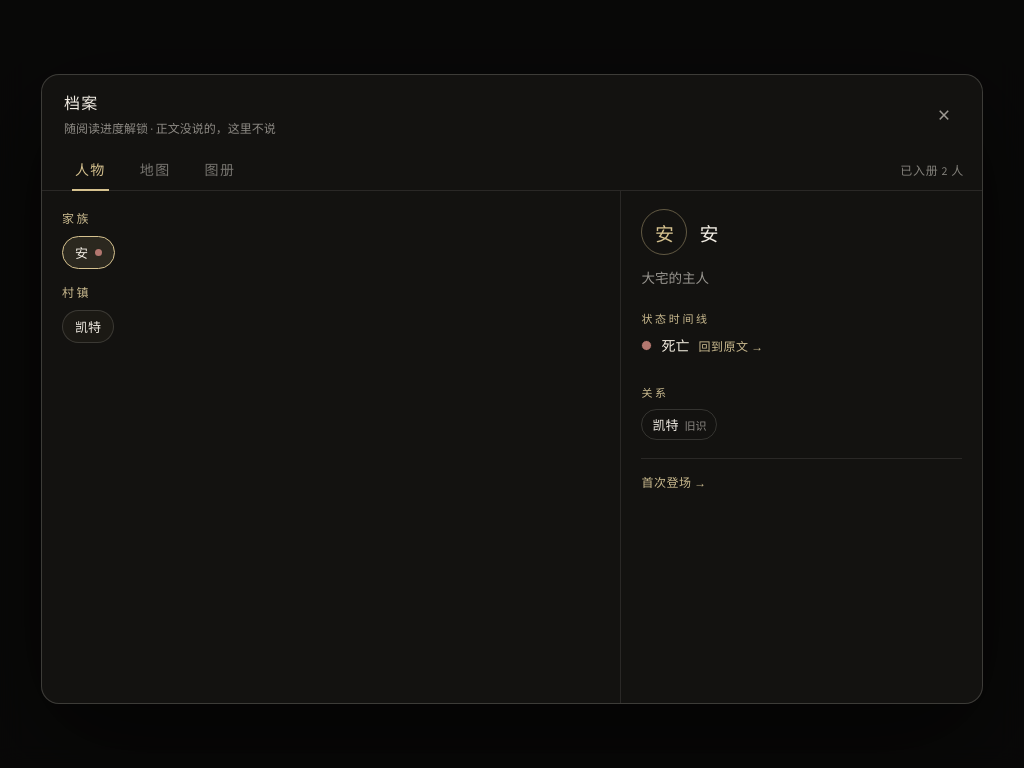
Test: CodexPanel › navigates between characters through relation chips
Click the button "凯特 旧识". click: (680, 424)
box: [642,409,718,440]
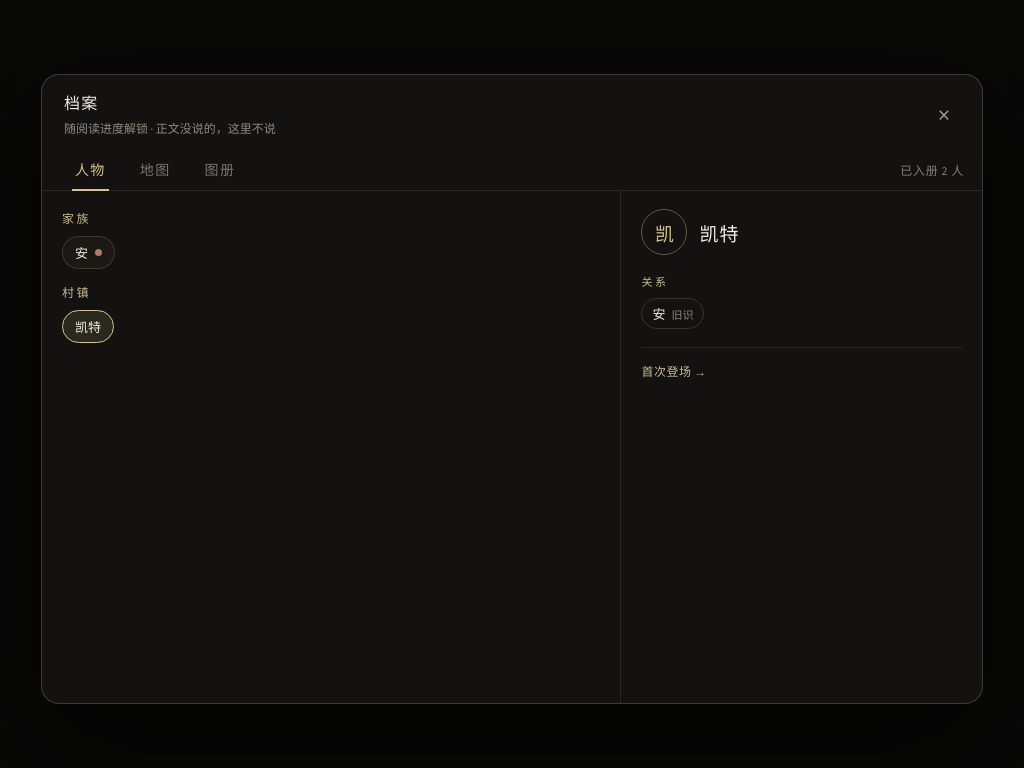
Expected: the heading "凯特" is shown, [700,219,739,246]
